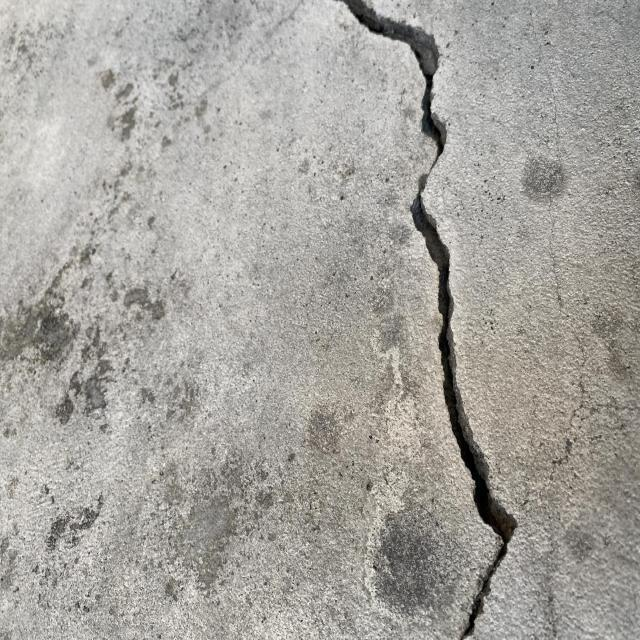GRIETA: (345, 0, 515, 639)
